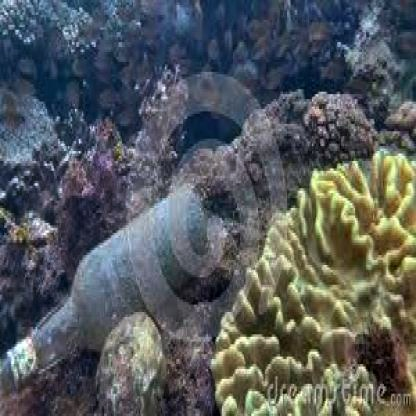gbottle: (8, 186, 206, 391)
